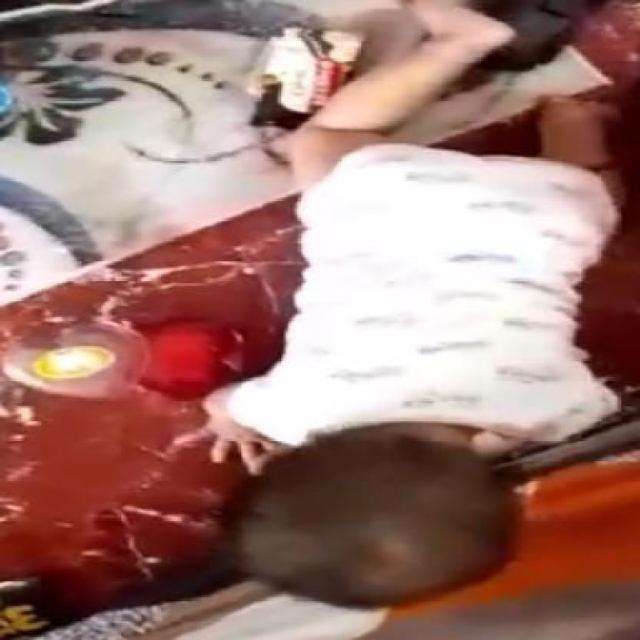baby: (171, 2, 620, 610)
